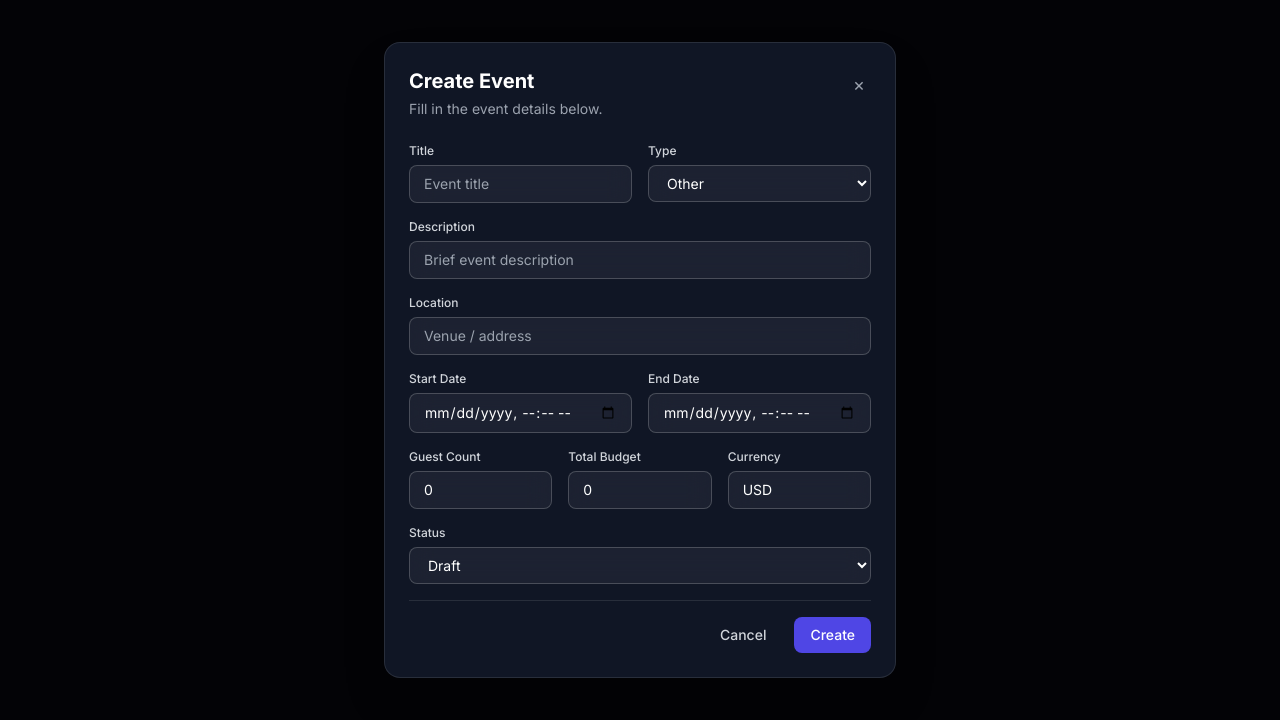
Test: EventForm Component › validates required fields on submission
The width and height of the screenshot is (1280, 720).
Click the button "Create" at x=833, y=635, box [794,617,871,653]
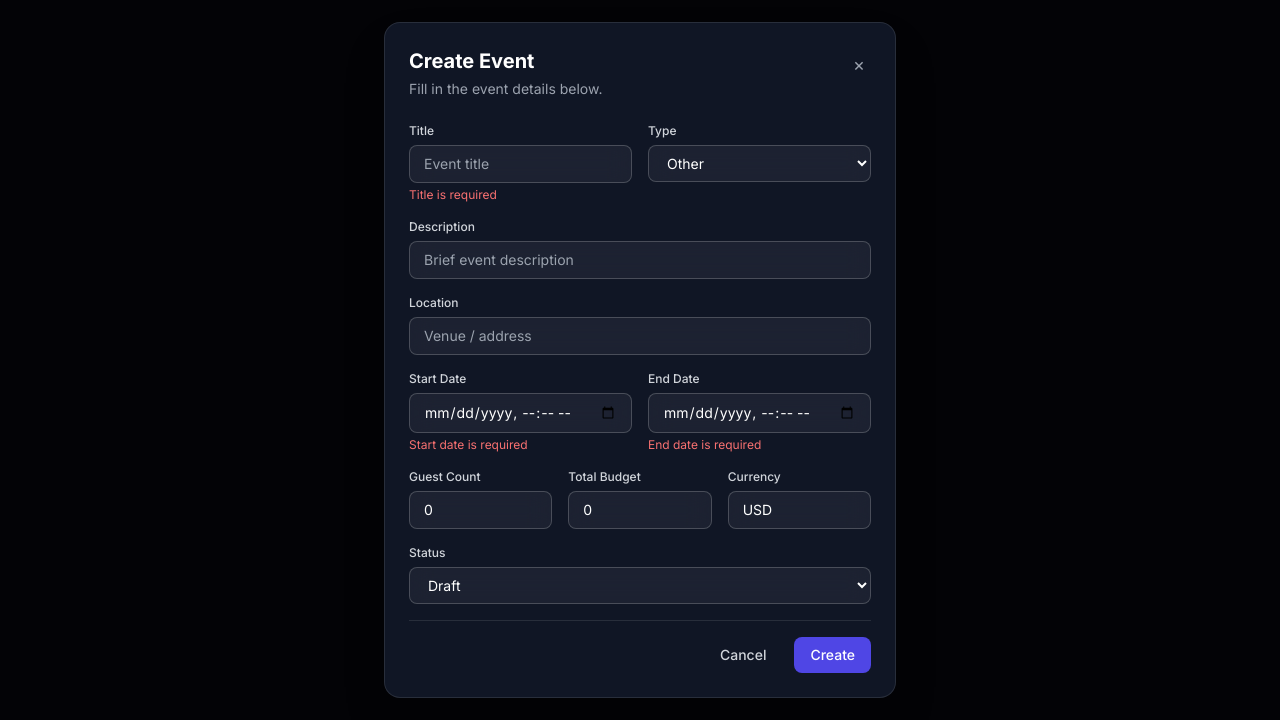
Check: the text "Title is required" is shown, box [409,187,497,202]
